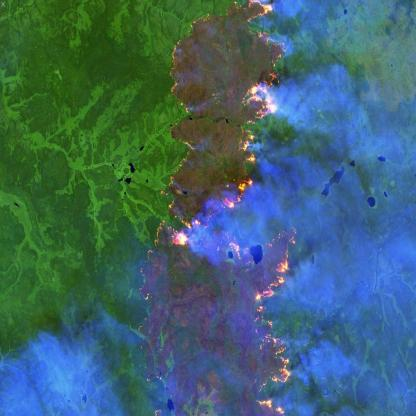fire: (132, 0, 296, 416)
